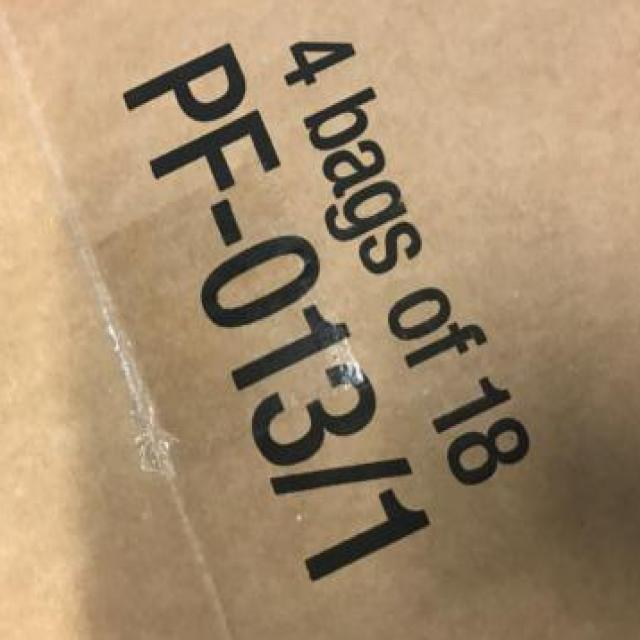organic: (9, 4, 639, 634)
